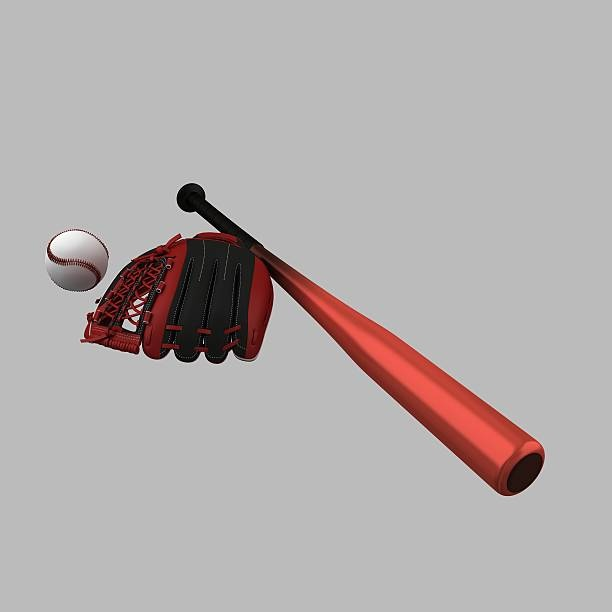bita: (180, 188, 534, 489)
